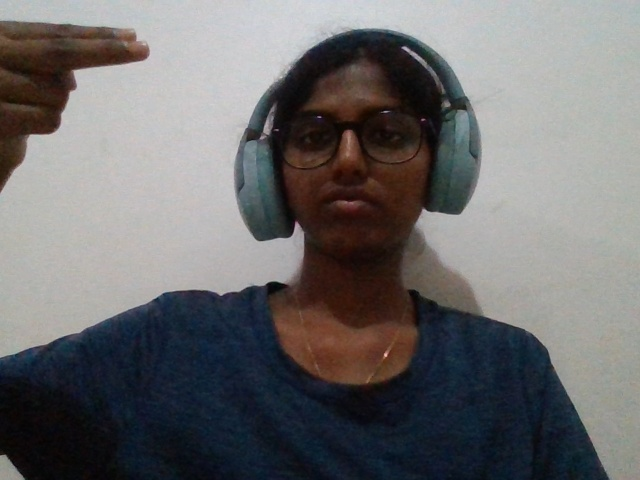H: (1, 9, 162, 214)
